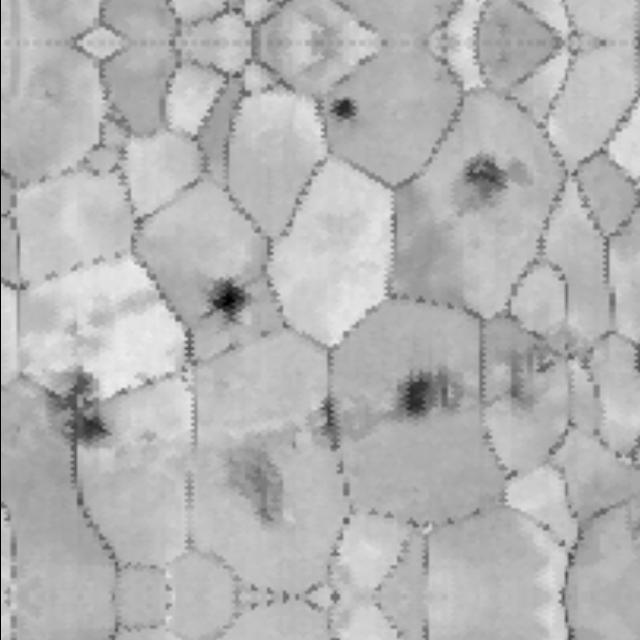good_void: (214, 425, 301, 528), (47, 362, 118, 453), (490, 334, 568, 415), (394, 362, 459, 425), (199, 276, 252, 323), (455, 151, 502, 194), (317, 391, 346, 455), (321, 94, 365, 121), (35, 84, 64, 117)
